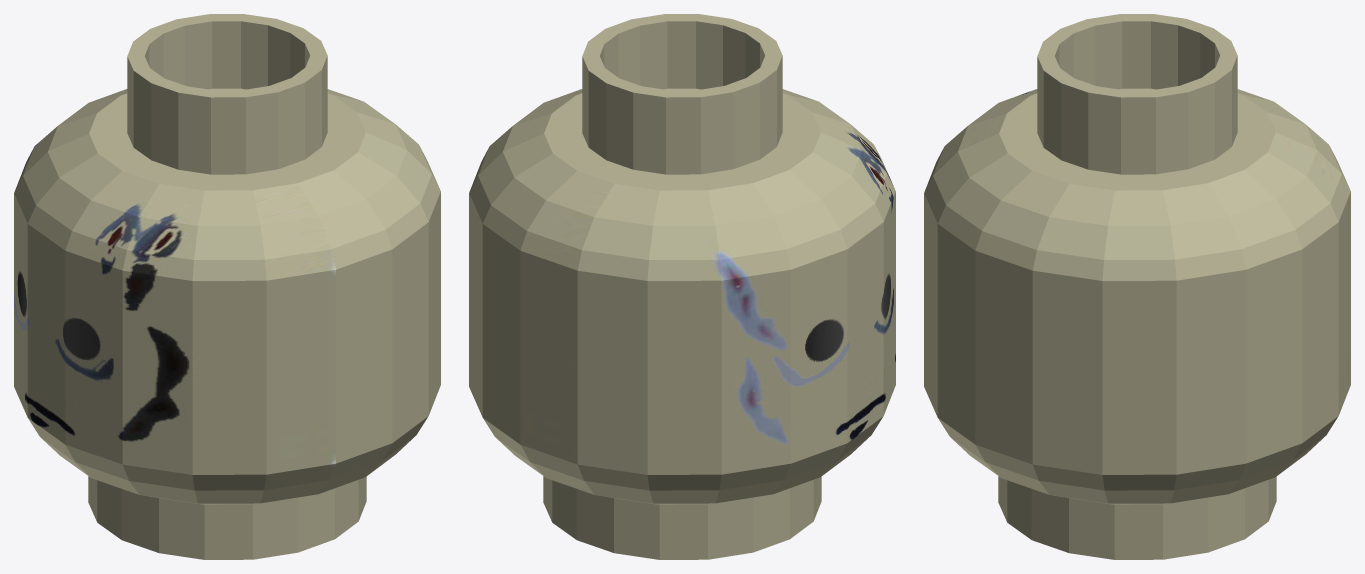
Rendered from LeoDart_head.obj.
3 renders of one model, left to right at view 1: azimuth 30°, elevation 25°; view 2: azimuth 150°, elevation 25°; view 3: azimuth 270°, elevation 25°, orthographic.
Parts seen in each view (by area): view 1: head; view 2: head; view 3: head.
Boxes of the visible parts, x1,y1,x2,y2 form: head: [14, 14, 440, 559]; head: [469, 14, 895, 559]; head: [924, 14, 1350, 559].
Size of the model in its own units: 0.9836 by 1.15 by 0.997.
1 material, 1 textured.
